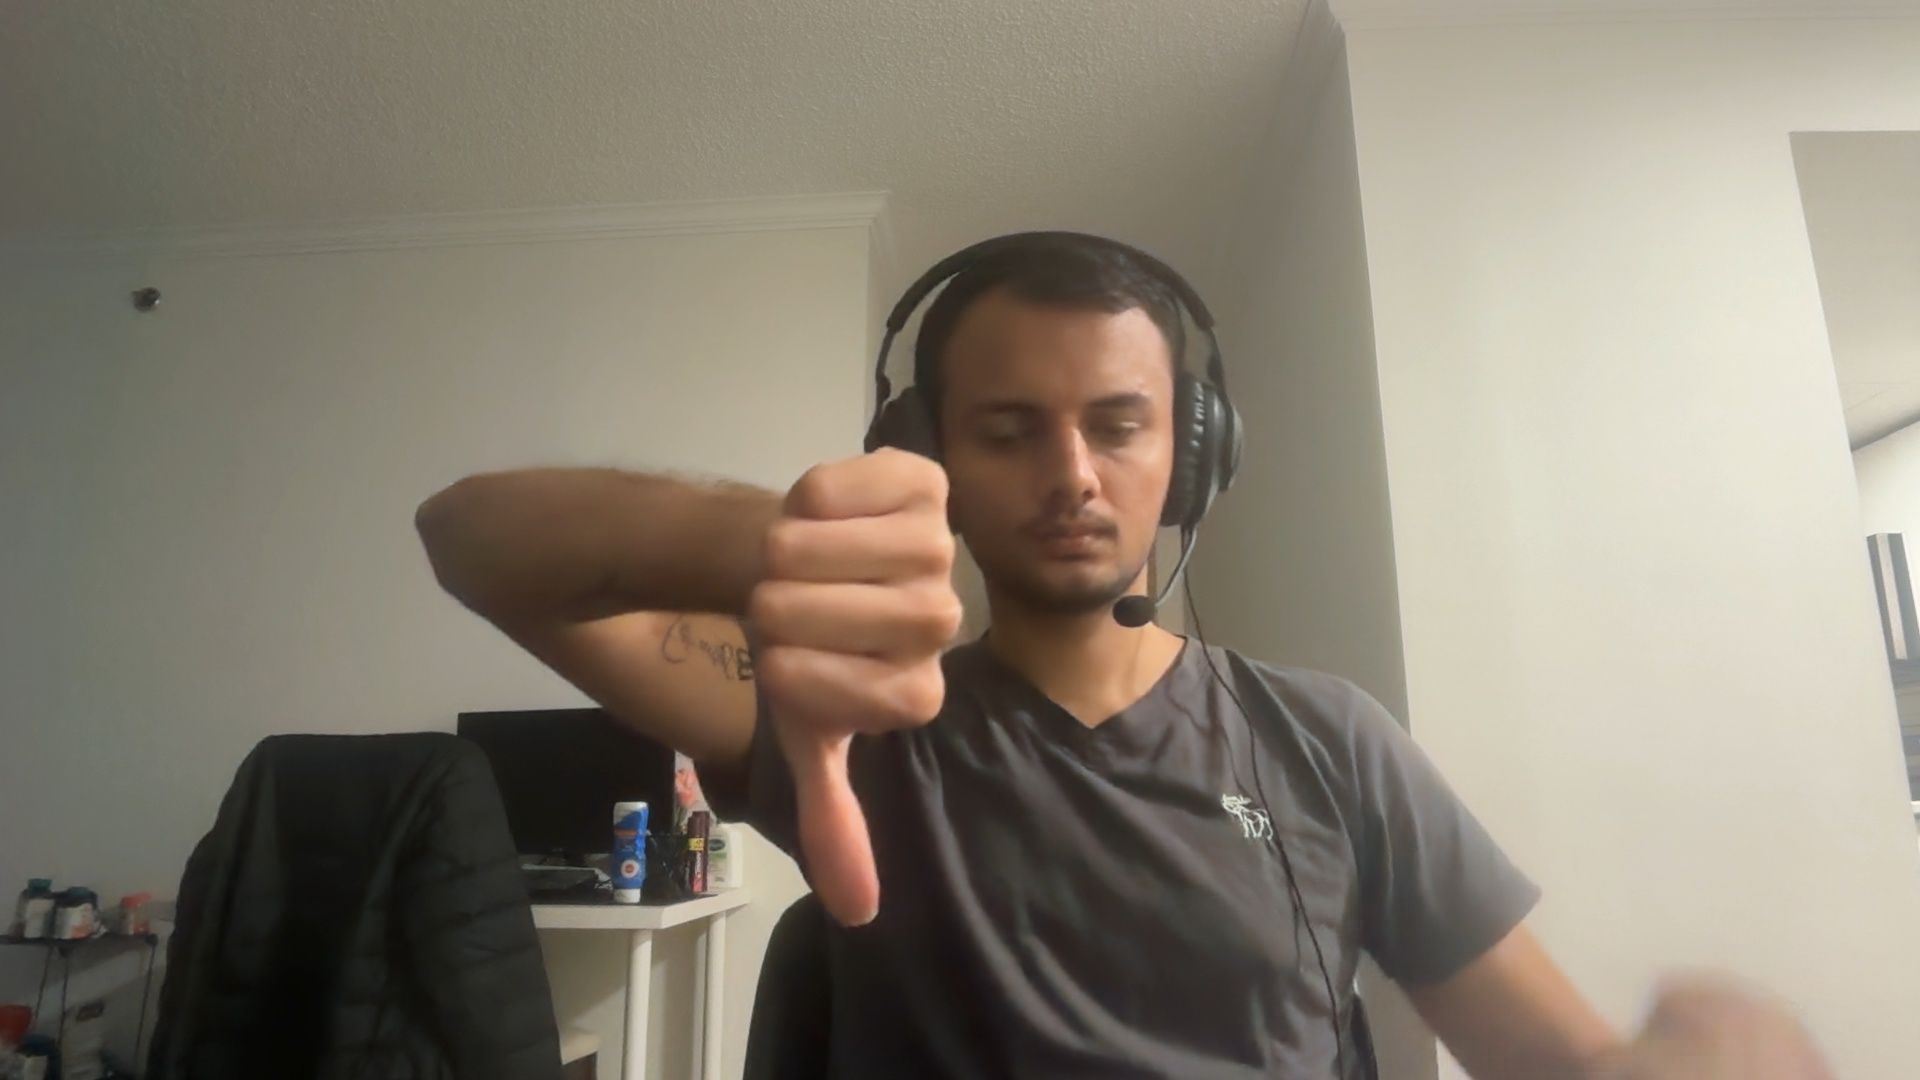thumbsdown: (748, 444, 965, 926)
